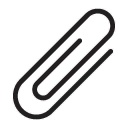Metal: (0, 0, 123, 121)
